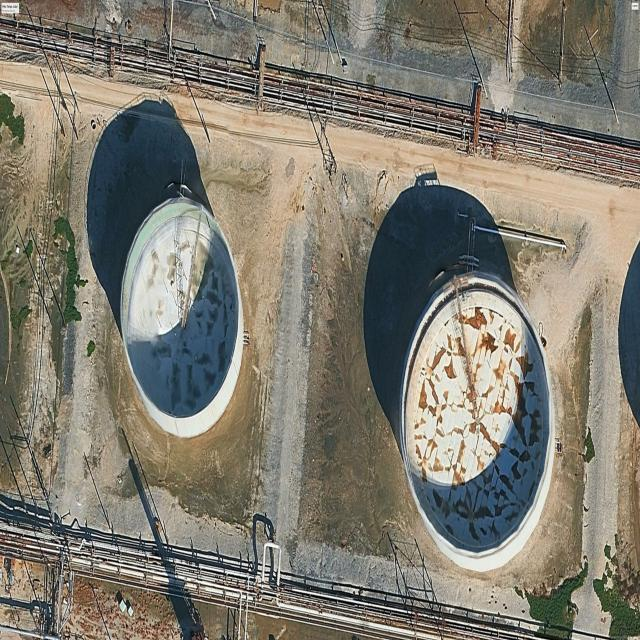Oil Rafinery: (398, 273, 555, 571), (121, 197, 244, 437)
